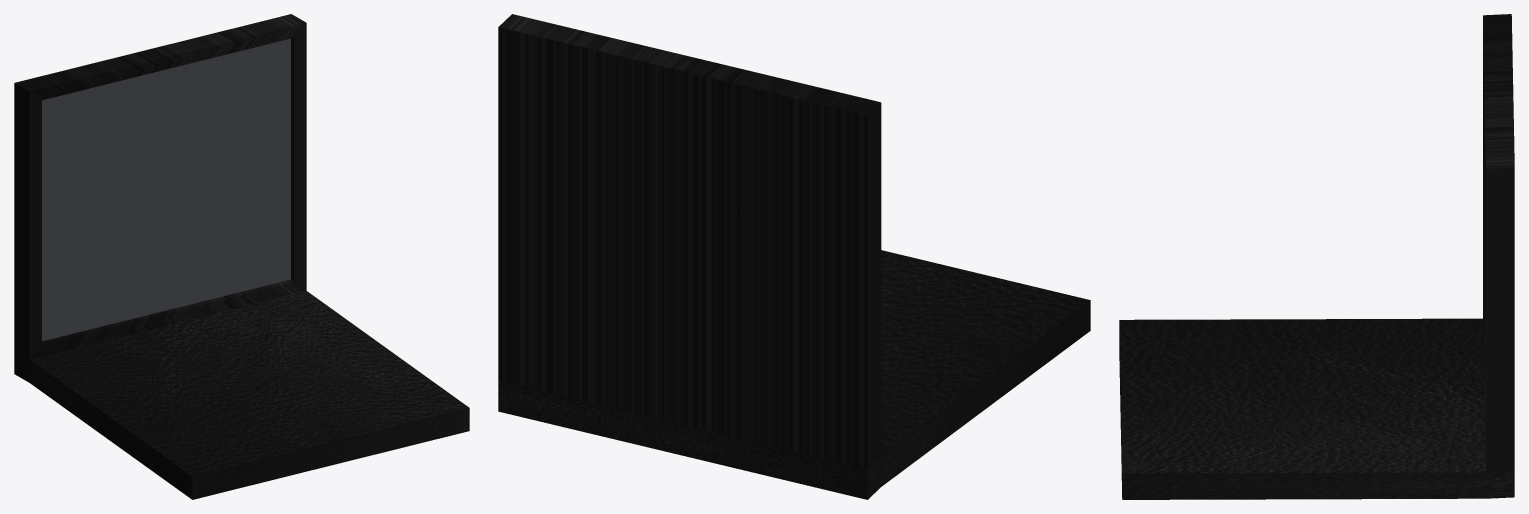
The model's file is laptop1.gltf.
3 renders of one model, left to right at view 1: azimuth 30°, elevation 25°; view 2: azimuth 150°, elevation 25°; view 3: azimuth 270°, elevation 25°, orthographic. The views are drawn at different scales.
Parts seen in each view (by area): view 1: Cube.340; view 2: Cube.340; view 3: Cube.340.
Boxes of the visible parts, x1,y1,x2,y2 form: Cube.340: [14, 14, 469, 499]; Cube.340: [498, 14, 1090, 499]; Cube.340: [1119, 14, 1514, 499].
Size of the model in its own units: 0.2542 by 0.25 by 0.2718.
Materials: 2 (2 with a texture image).
